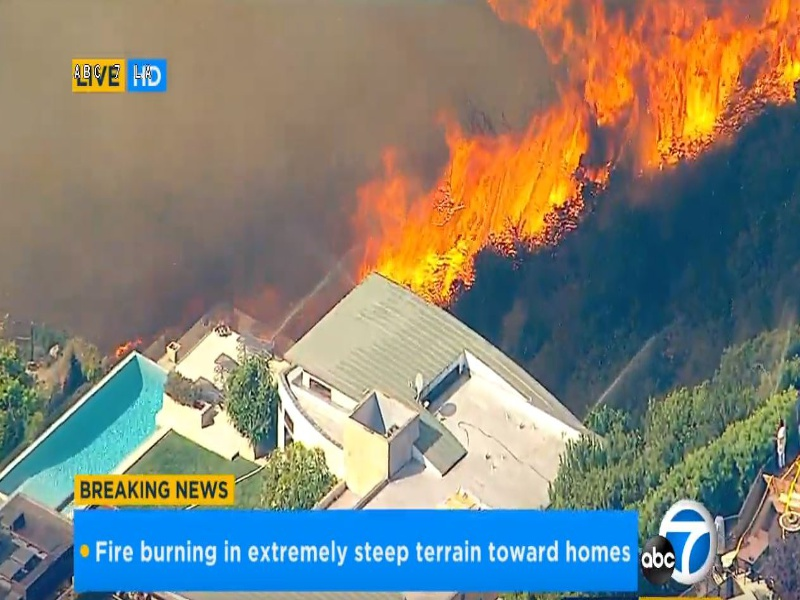fire: (355, 137, 526, 275), (435, 120, 595, 255), (656, 8, 739, 164), (580, 1, 656, 114), (750, 1, 799, 108), (407, 254, 471, 292)
